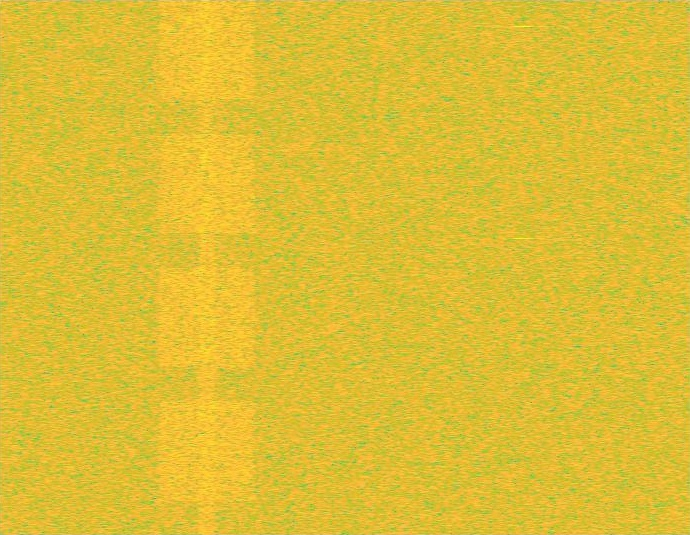5G: (155, 0, 259, 534)
DSSS: (195, 0, 219, 534)
Radar: (516, 0, 530, 534)
